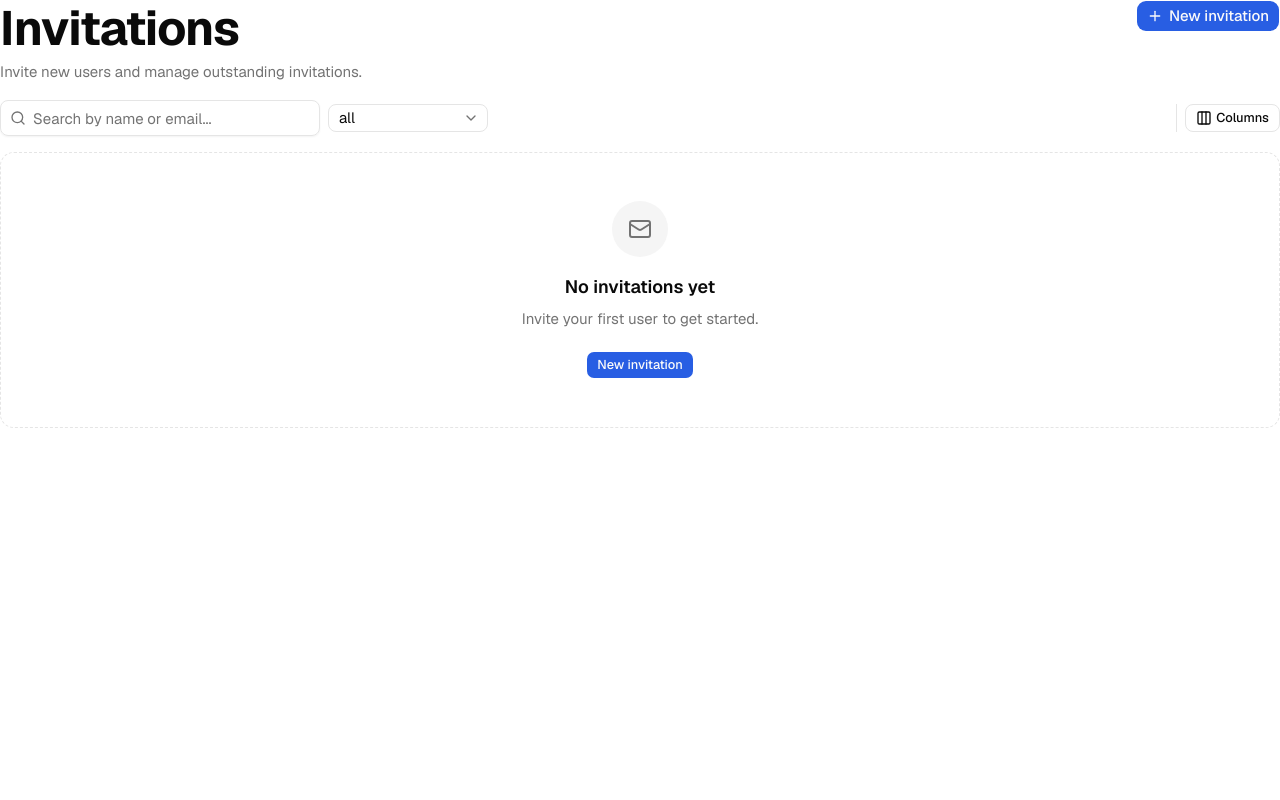
AdminInvitationsPage › opens the create-invitation dialog from the primary action
The image size is (1280, 800).
Expected: the text "No invitations yet" is shown, [565, 275, 715, 298]
Click the 1st button "New invitation". click: {"x": 1208, "y": 16}
box: [1136, 0, 1279, 32]
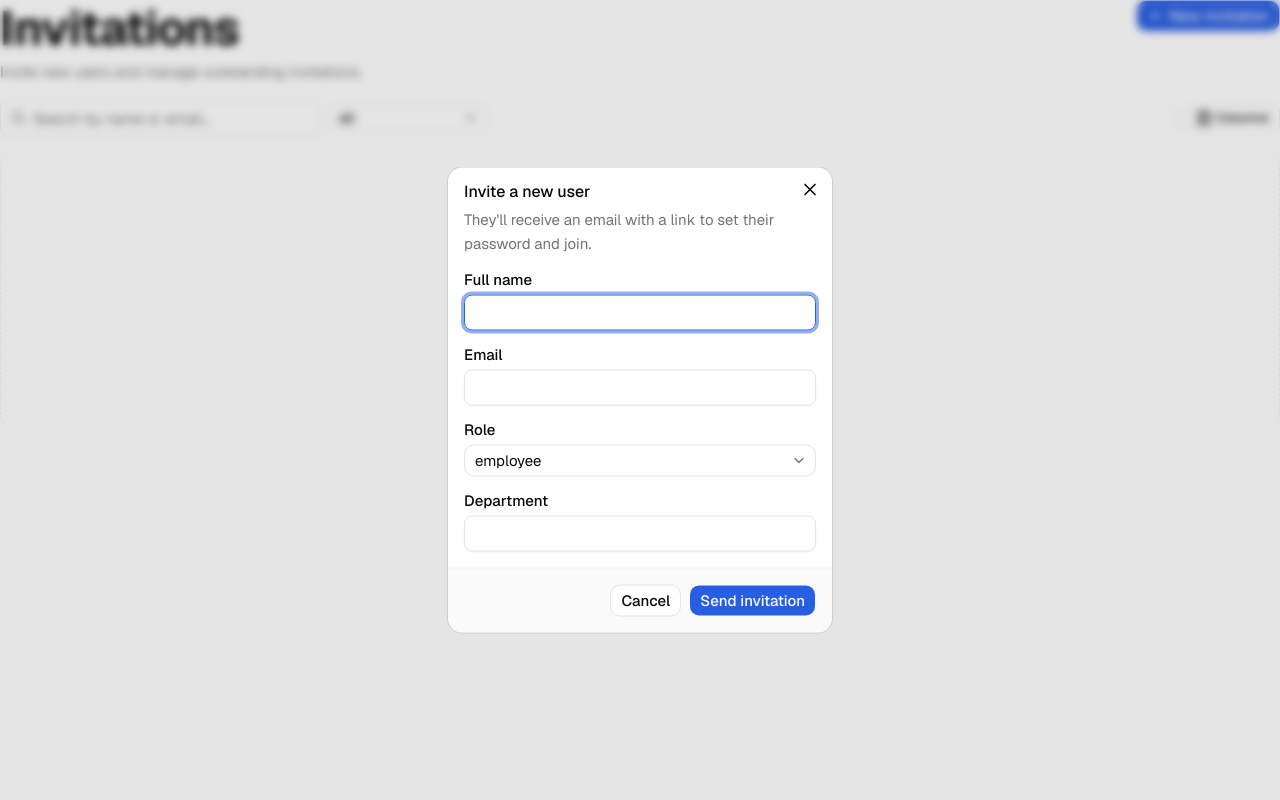
Now the heading "Invite a new user" is shown, box [464, 180, 590, 202]
